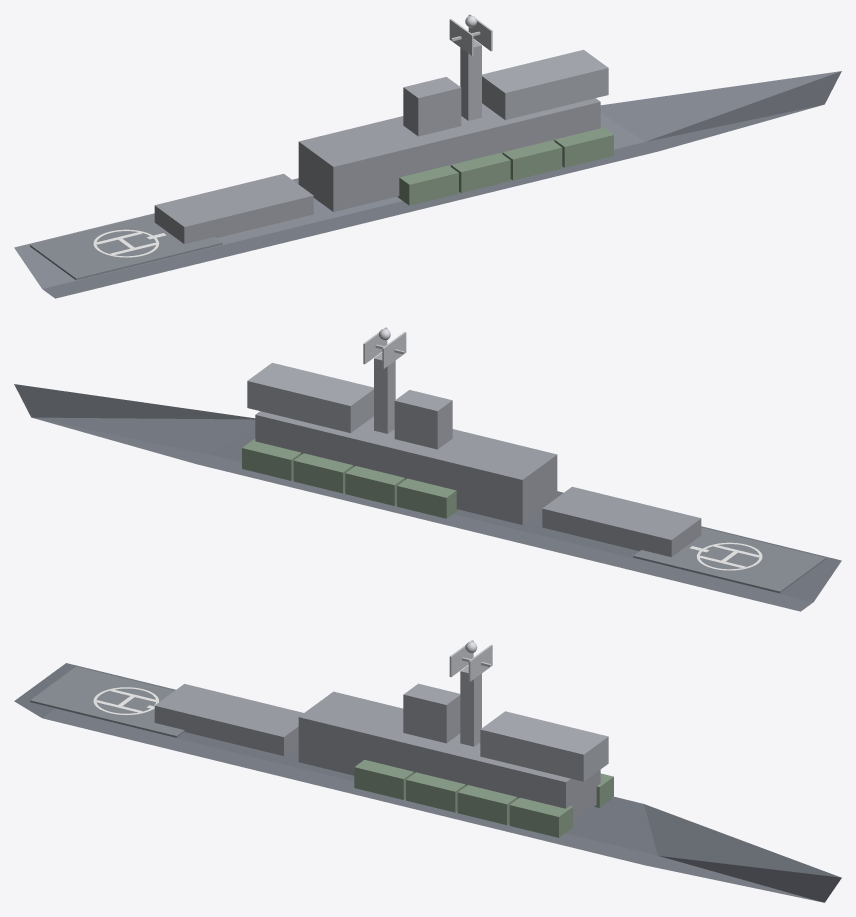
File: moskva.glb
The picture shows the model from 3 angles, top to bottom: view 1: azimuth 30°, elevation 25°; view 2: azimuth 150°, elevation 25°; view 3: azimuth 330°, elevation 25°; orthographic projection.
Parts seen in each view (by area): view 1: Hull, MainSuper, Hangar, Bridge, HelipadDeck, Chimney, MissileCan_04, MissileCan_06, MissileCan_07, MissileCan_05, Mast, RadarBack; view 2: Hull, MainSuper, Hangar, Bridge, HelipadDeck, Chimney, MissileCan_00, MissileCan_02, MissileCan_03, MissileCan_01, Mast, RadarBack; view 3: Hull, MainSuper, Hangar, Bridge, HelipadDeck, Chimney, MissileCan_07, MissileCan_06, MissileCan_05, MissileCan_04, Mast, RadarFront.
Part boxes in pixels (x1,y1,x2,y2): Hull: (14,71,841,298); MainSuper: (298,98,600,211); Hangar: (154,173,313,243); Bridge: (482,49,608,120); HelipadDeck: (30,214,222,280); Chimney: (403,77,461,136); MissileCan_04: (397,165,458,205); MissileCan_06: (502,140,562,180); MissileCan_07: (554,125,613,167); MissileCan_05: (451,153,510,192); Mast: (460,40,481,120); RadarBack: (449,19,473,55); Hull: (14,384,841,611); MainSuper: (255,411,557,524); Hangar: (542,486,701,556); Bridge: (247,362,373,433); HelipadDeck: (633,527,825,593); Chimney: (394,390,452,449); MissileCan_00: (397,478,458,518); MissileCan_02: (293,453,353,493); MissileCan_03: (242,438,301,480); MissileCan_01: (345,466,404,505); Mast: (374,353,395,433); RadarBack: (382,332,406,368); Hull: (14,663,841,902); MainSuper: (298,691,600,821); Hangar: (154,684,303,755); Bridge: (480,711,608,781); HelipadDeck: (30,666,184,737); Chimney: (403,683,460,743); MissileCan_07: (509,797,573,837); MissileCan_06: (457,785,517,824); MissileCan_05: (406,772,465,812); MissileCan_04: (354,759,413,799); Mast: (460,665,481,746); RadarFront: (468,645,492,681).
Size of the model in its own units: 186 by 38.7 by 22.16.
